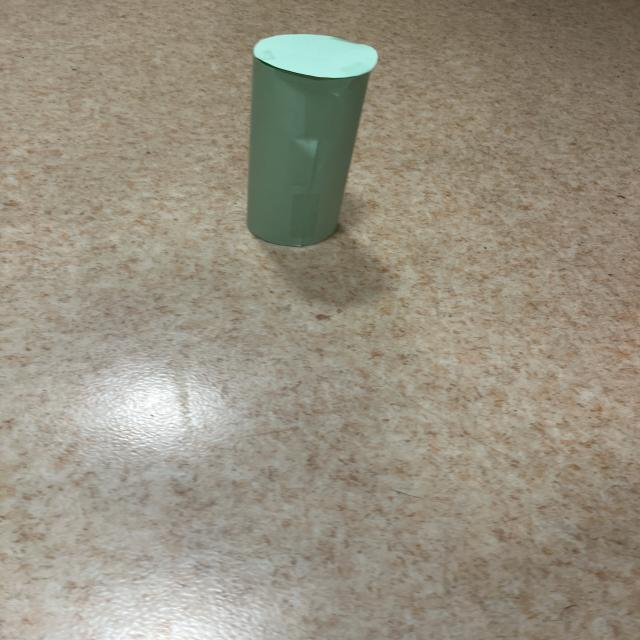meta: (247, 34, 378, 247)
